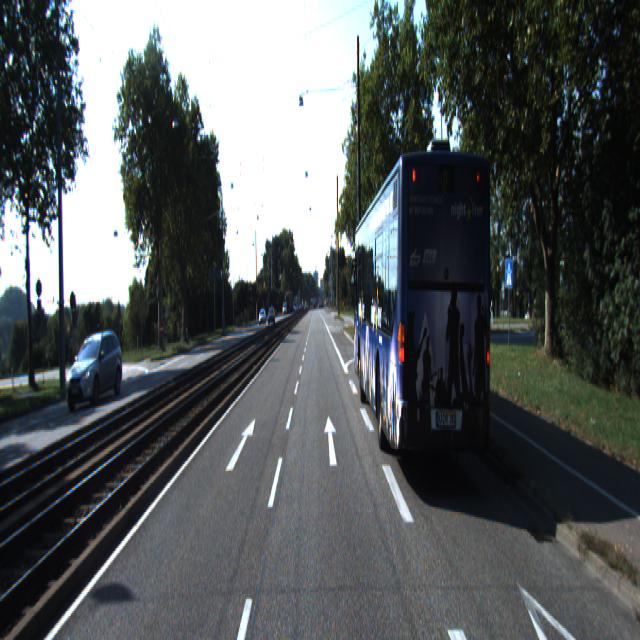Car: (354, 140, 498, 498), (66, 330, 127, 410)
